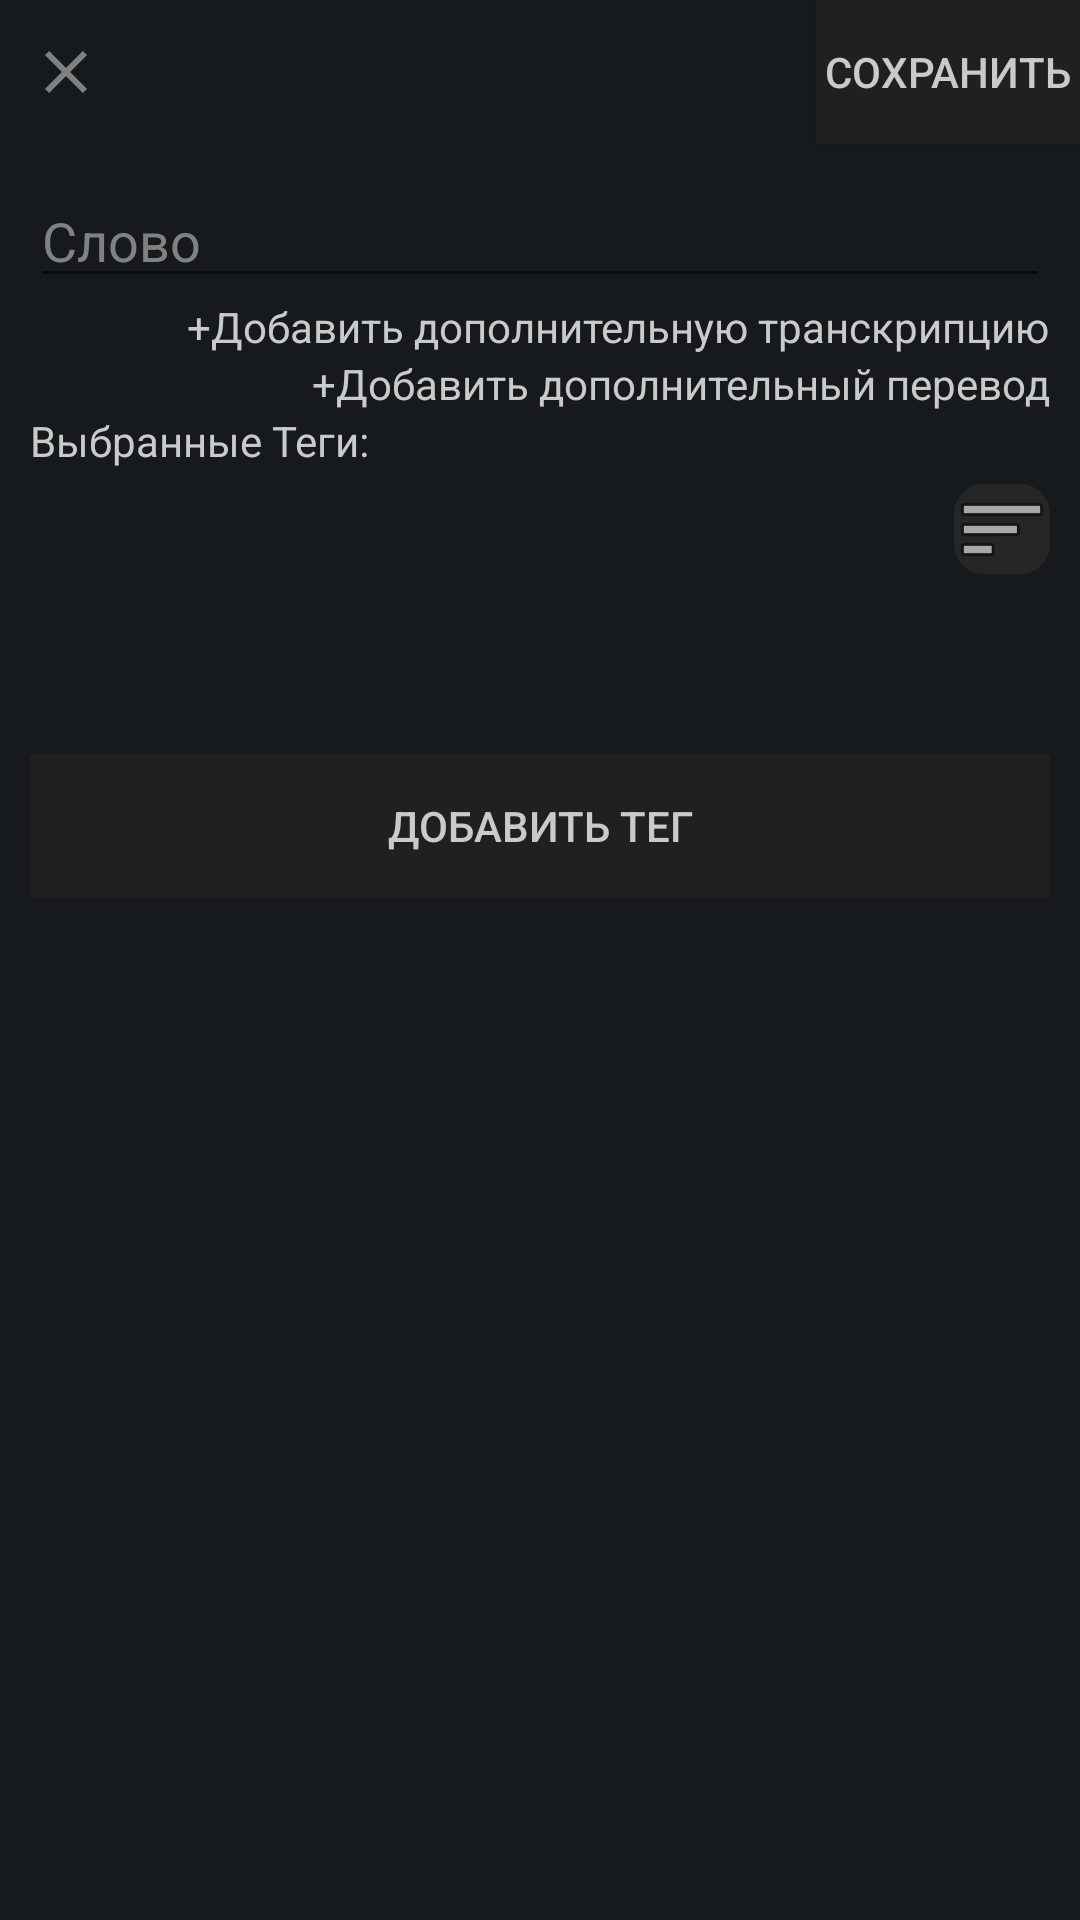

Screen size 1080*1920. Icon name, then its box in pixels as (x1, y1, x2, y2):
close: (45, 51, 87, 93)
sort by size: (954, 484, 1050, 574)
